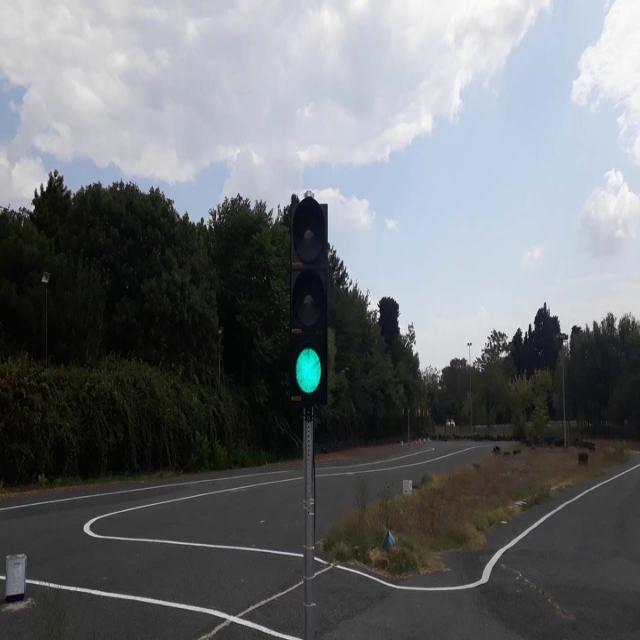yesil: (292, 201, 325, 399)
